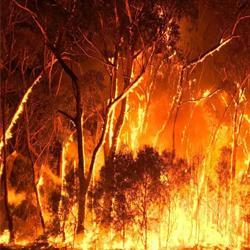fire: (164, 199, 236, 248), (61, 224, 164, 250), (118, 114, 149, 149)
